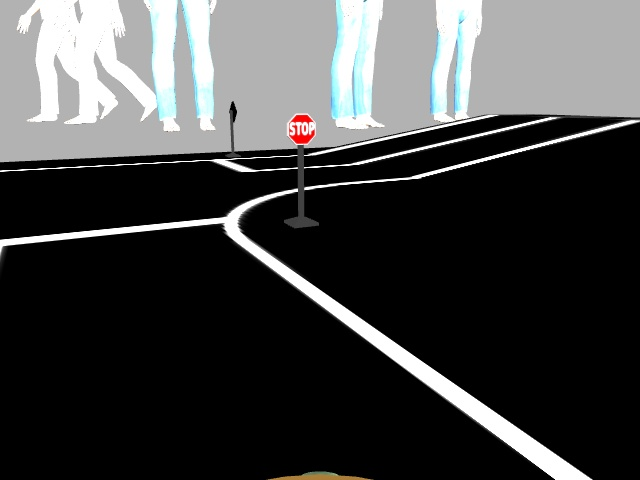Stop: (287, 113, 314, 143)
